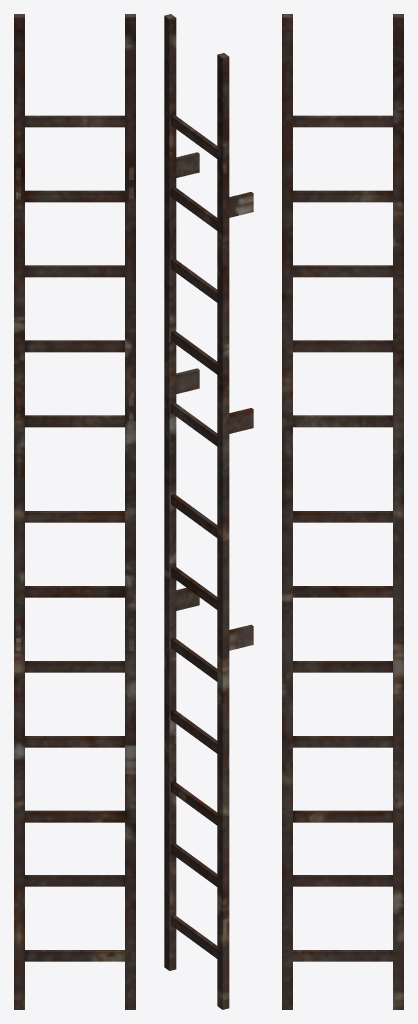
File: TankLadder.FBX
3 views of the same model, side by side, from view 1: azimuth 90°, elevation 25°; view 2: azimuth 210°, elevation 25°; view 3: azimuth 270°, elevation 25° (orthographic). The views are drawn at different scales.
Visible parts, largest first — view 1: TankLadder; view 2: TankLadder; view 3: TankLadder.
Part boxes in pixels (bbox=[...]): TankLadder: bbox=[14, 14, 135, 1009]; TankLadder: bbox=[164, 14, 253, 1009]; TankLadder: bbox=[282, 14, 403, 1009].
Bounding box in the file's own units: 24.09 × 682 × 75.75.
